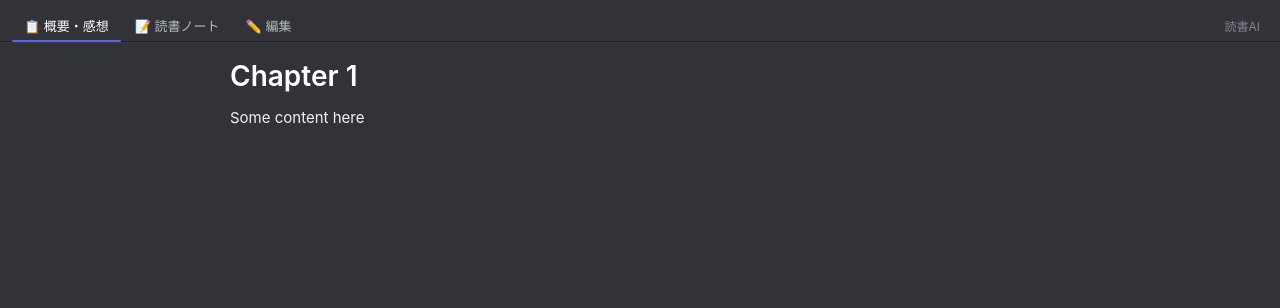
BookViewer › shows empty state when no reading notes
Expected: the button "📋 概要・感想" is shown, [12, 12, 121, 41]
Click the button "📝 読書ノート".
click(177, 26)  # box [123, 12, 232, 41]
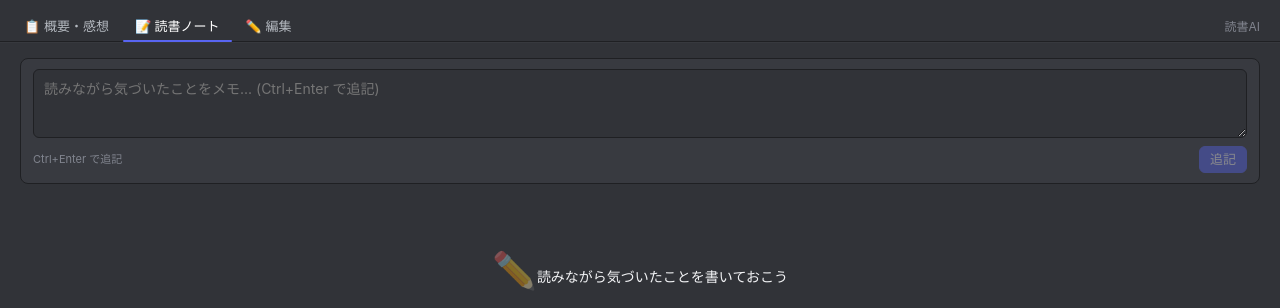
Now the text "読みながら気づいたことを書いておこう" is shown, box [537, 265, 788, 289]
